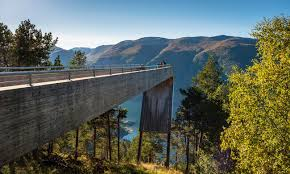mountain: (85, 33, 258, 67)
sky: (15, 3, 259, 34)
tree: (224, 23, 289, 173), (5, 26, 58, 71)
